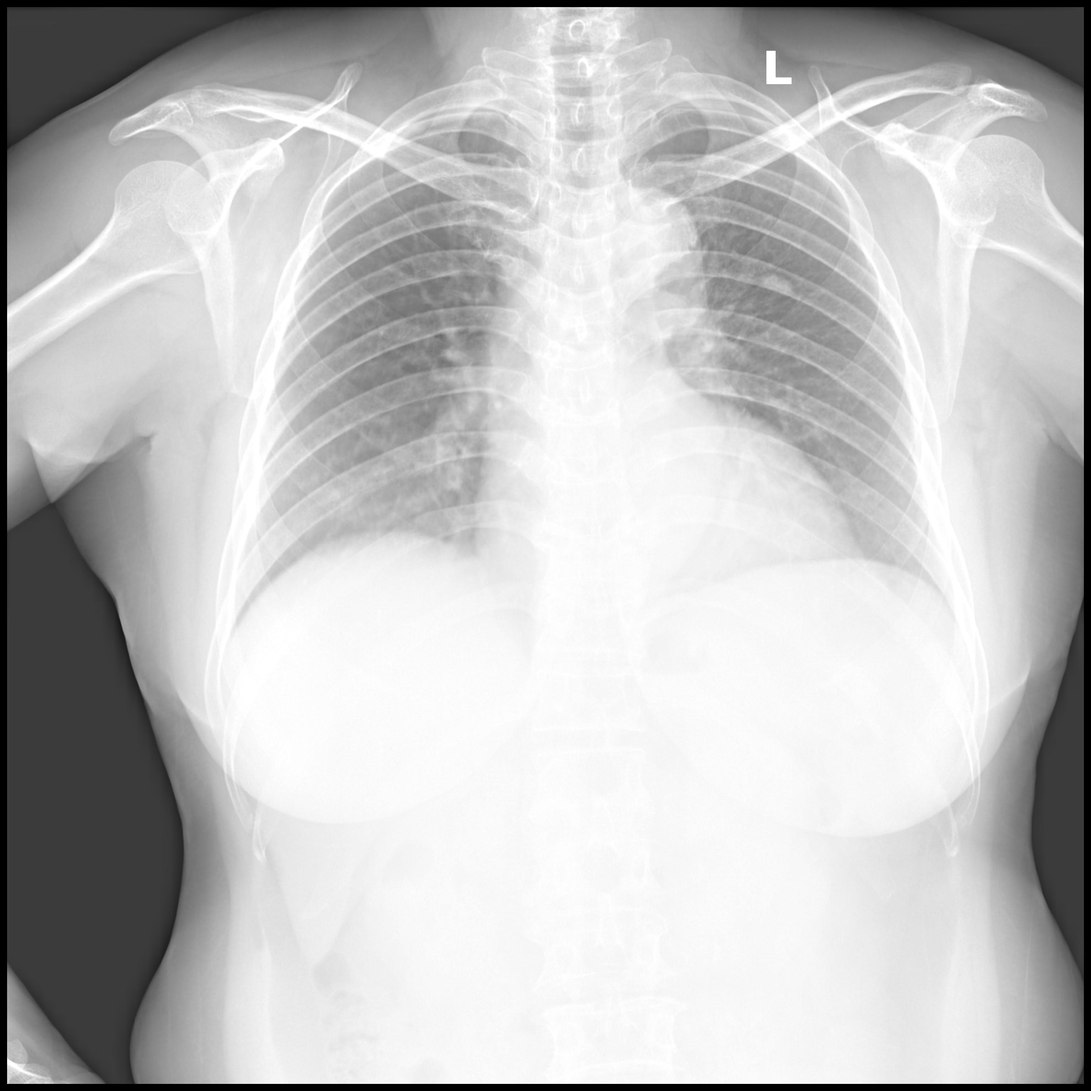Aortic enlargement: (585, 185, 707, 328)
Cardiomegaly: (474, 481, 864, 555)
